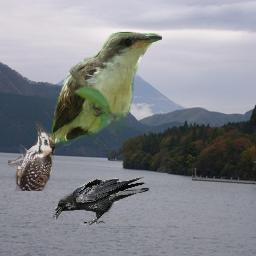Crow: (53, 177, 150, 225)
Cuckoo: (49, 31, 162, 146)
Woodpecker: (8, 120, 55, 191)
